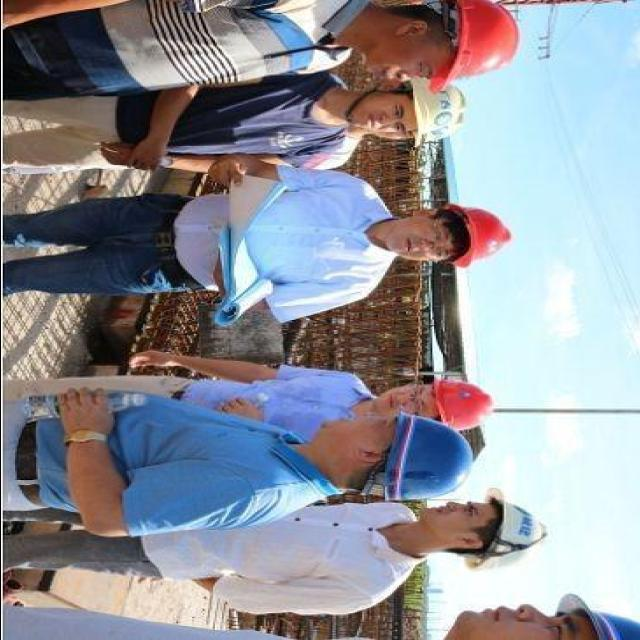helmet: (413, 0, 549, 95), (464, 484, 554, 585), (436, 194, 516, 274), (401, 88, 486, 146), (430, 369, 502, 432)
